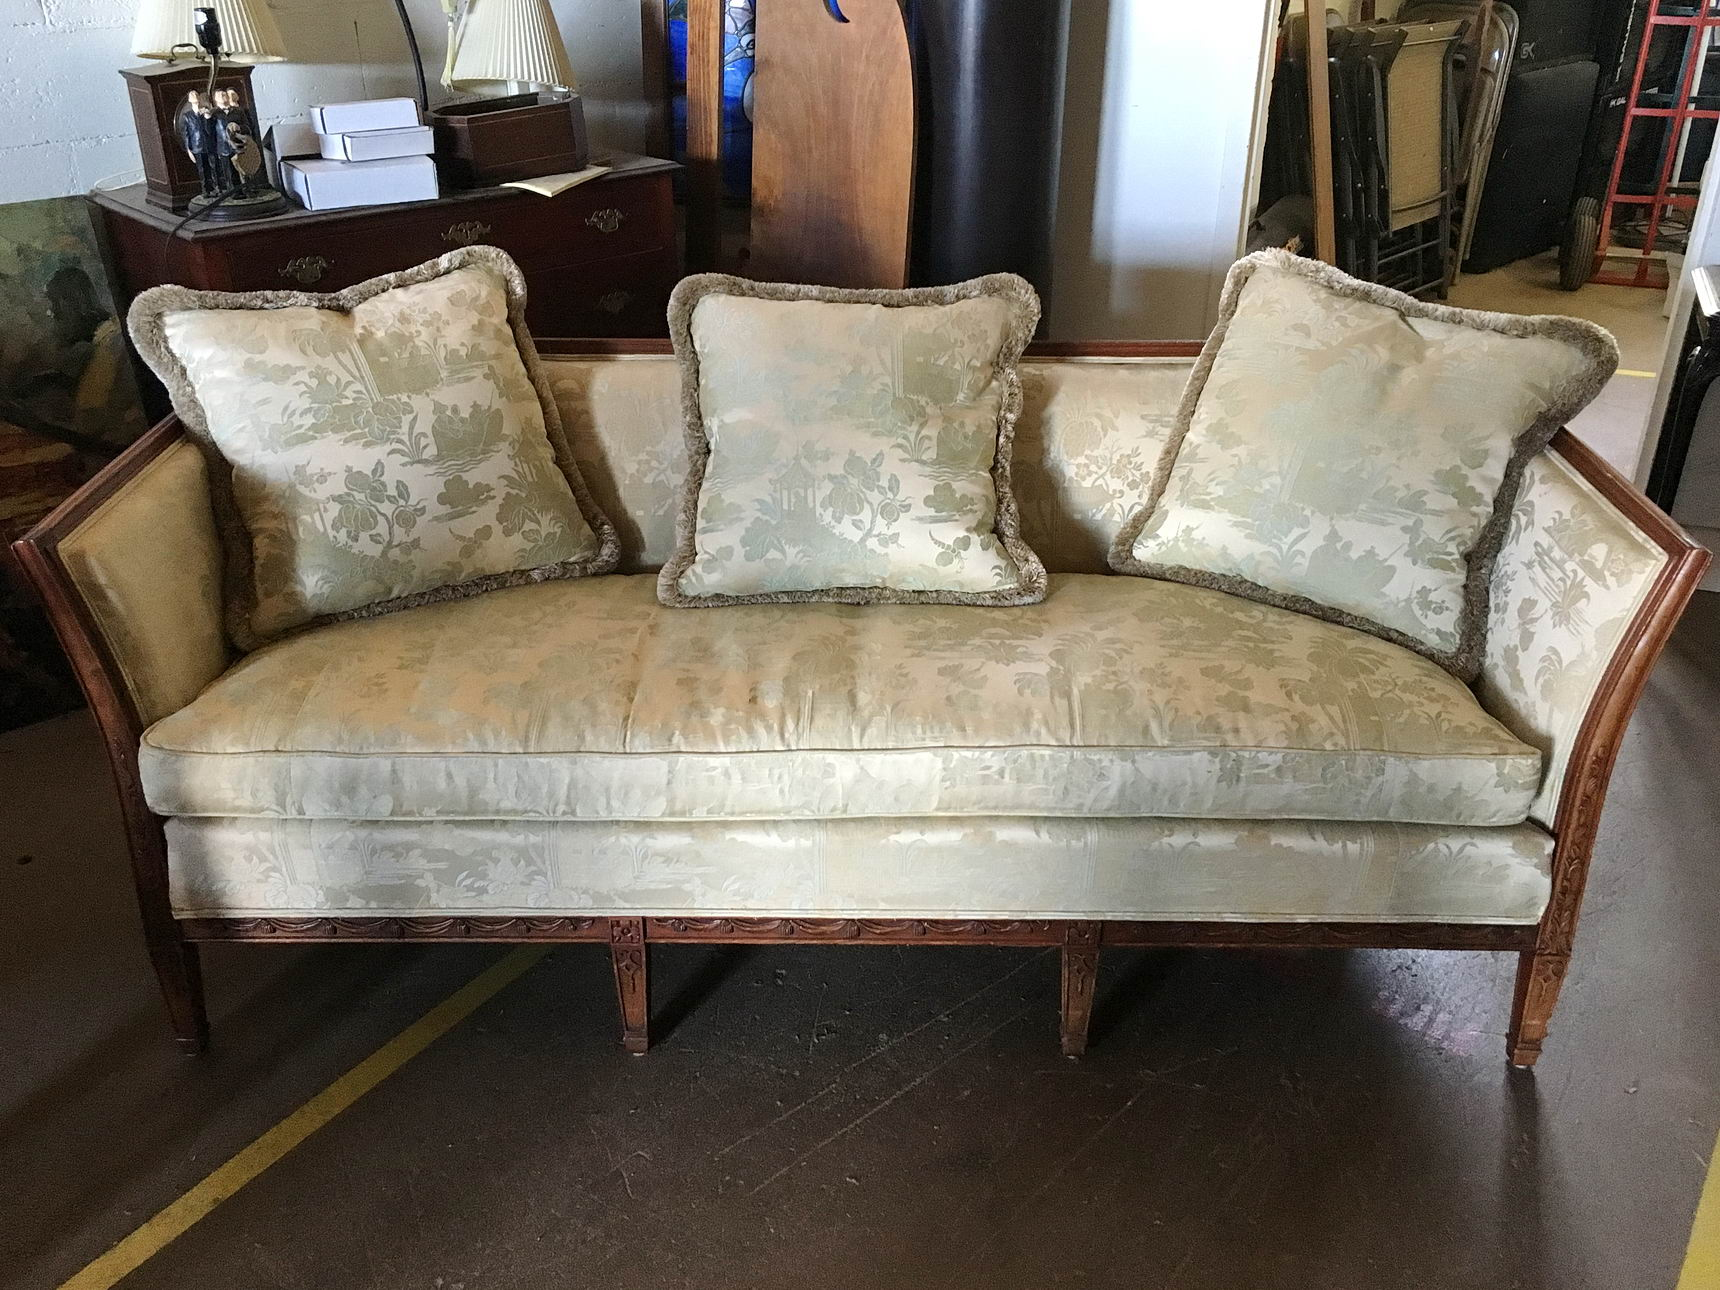chairs: (20, 280, 1720, 1095)
